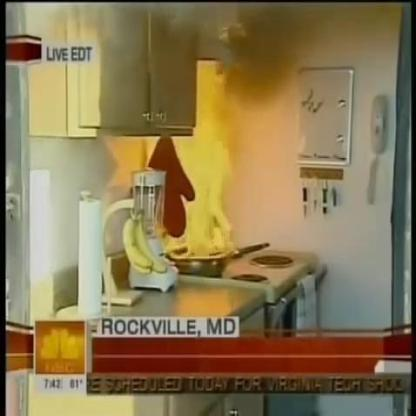fire: (140, 61, 260, 256)
